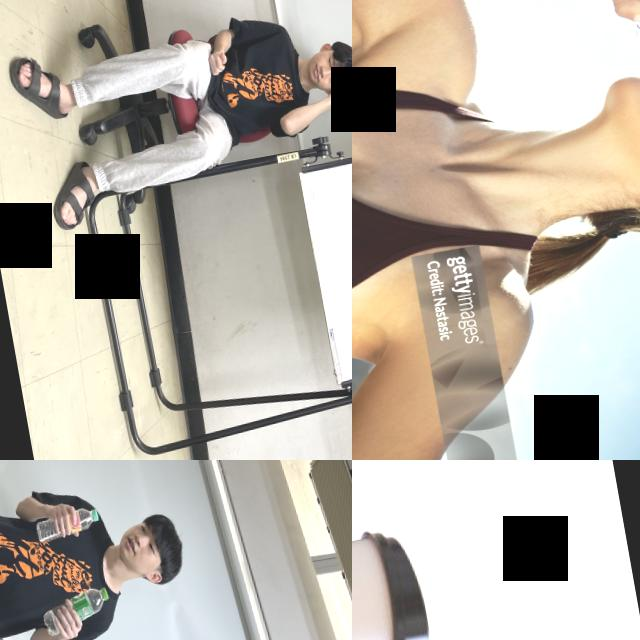bottle: (36, 583, 116, 640), (32, 503, 102, 547)
